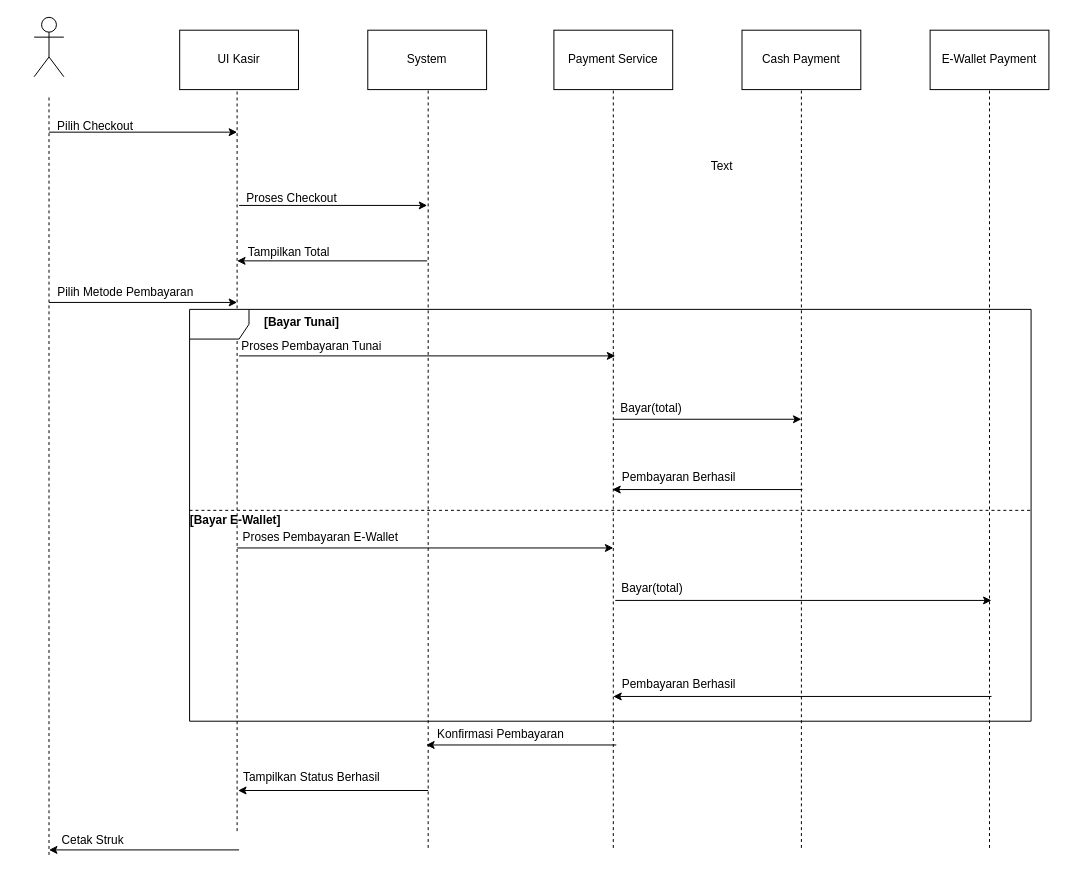
The diagram is 1066 pixels wide and 875 high, and some of its shapes have lost their labels. The box of each missing label's shape, as (x1, y1, x2, y2) in pixels:
Alt: (189, 308, 1031, 721)
Kasir: (33, 16, 64, 77)
